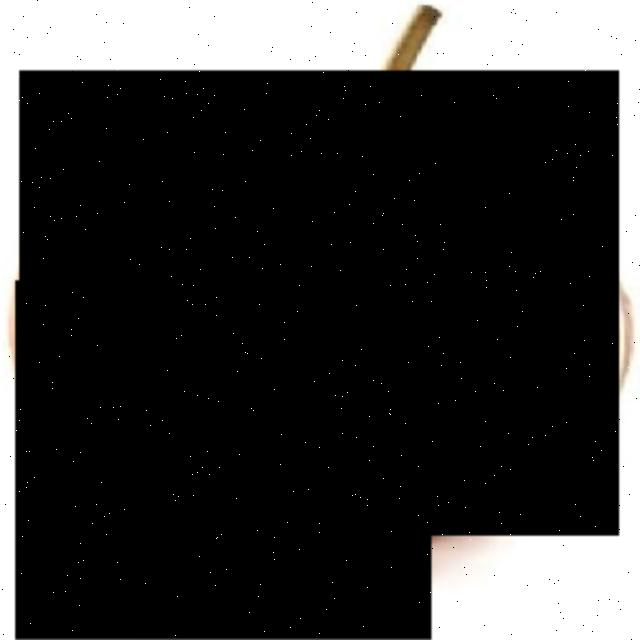Pumpkin: (19, 71, 620, 536), (16, 280, 432, 640)
